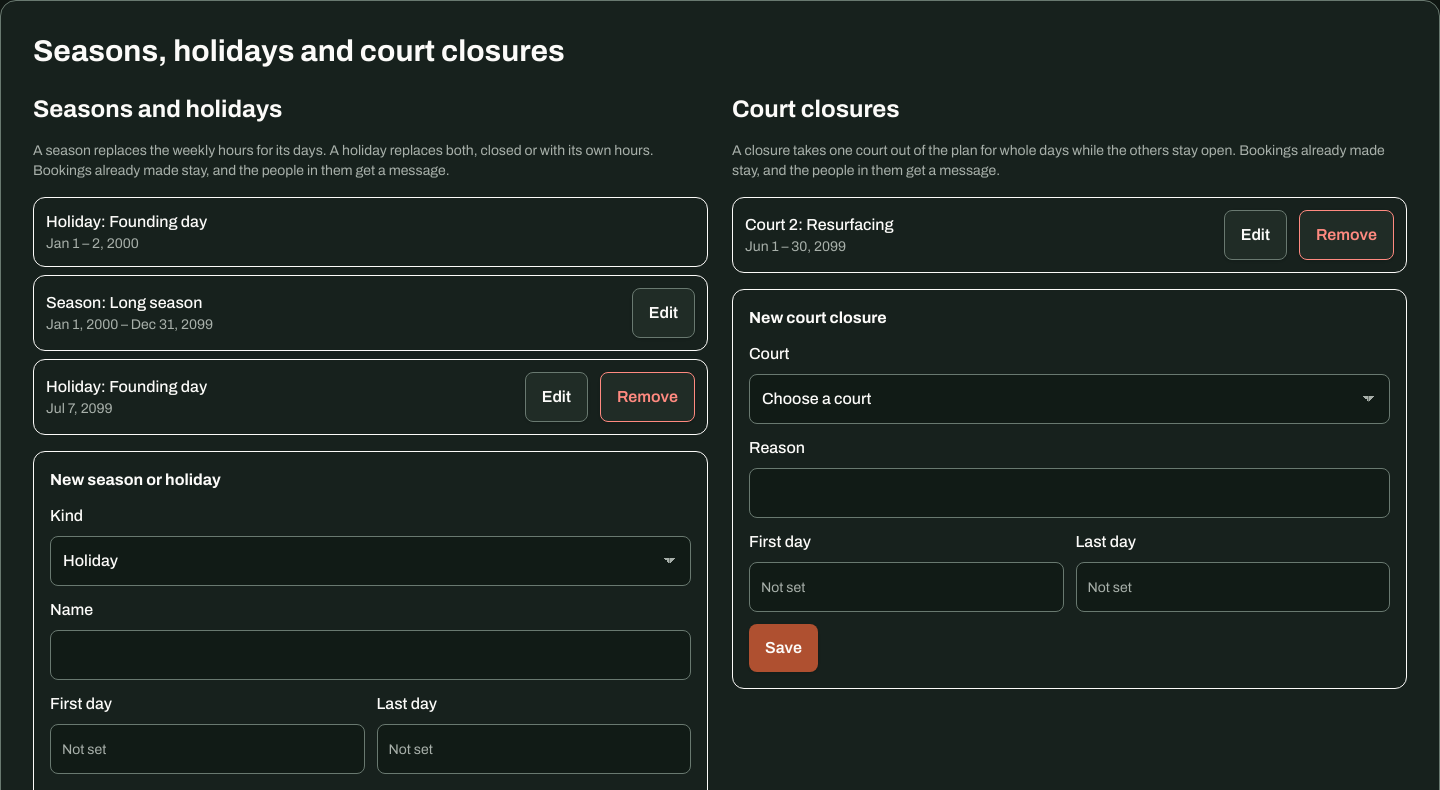
Test: AdminAvailabilityView › given a form without its days, when it is saved, then nothing is sent and the board is told what is missing
Expected: the form with test id "court-closure-form" is shown, left=732, top=289, right=1407, bottom=689
In the field with test id "court-closure-name": (1070, 493) left=749, top=468, right=1390, bottom=518, type "Resurfacing"
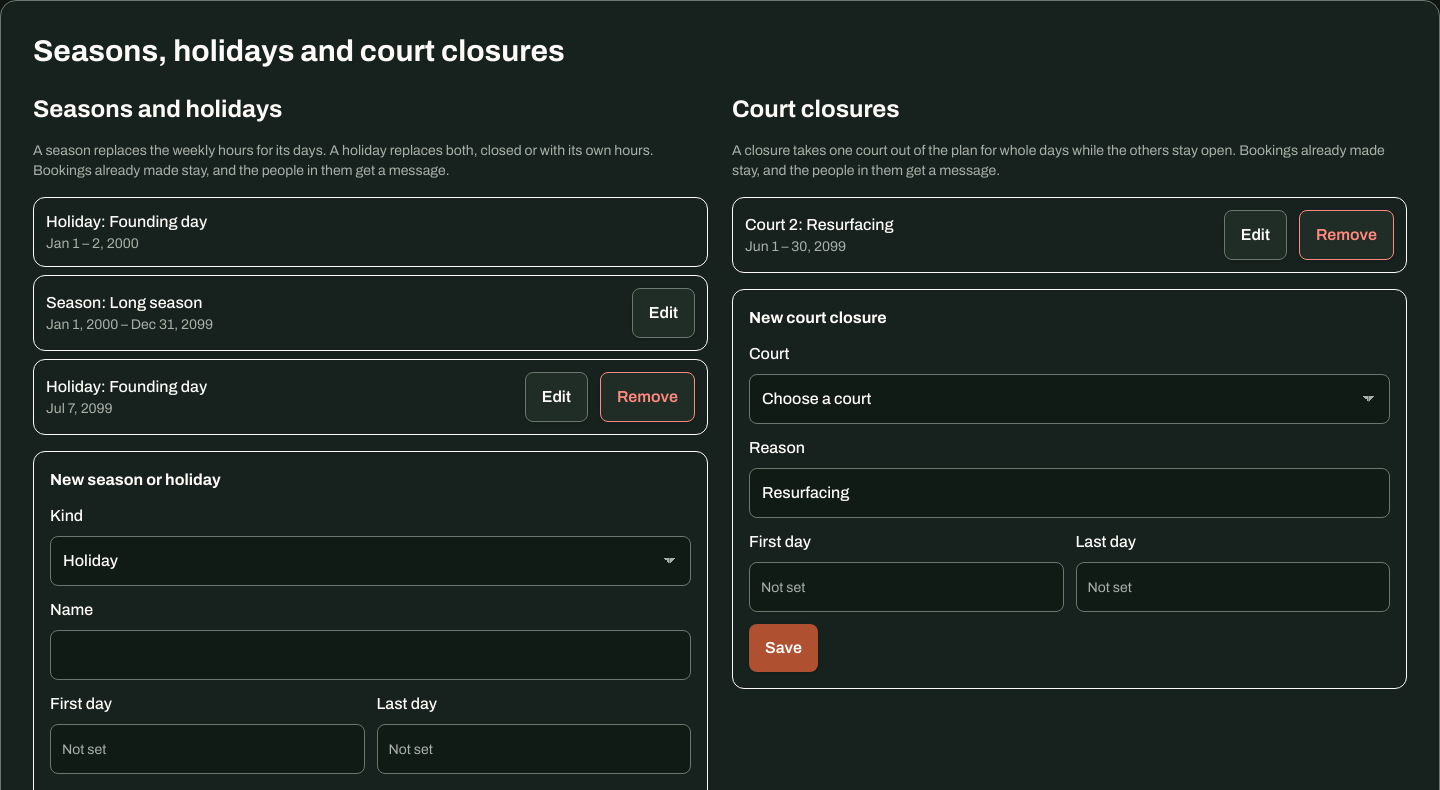
Click the button with test id "save-court-closure": click(784, 648) left=749, top=624, right=818, bottom=672
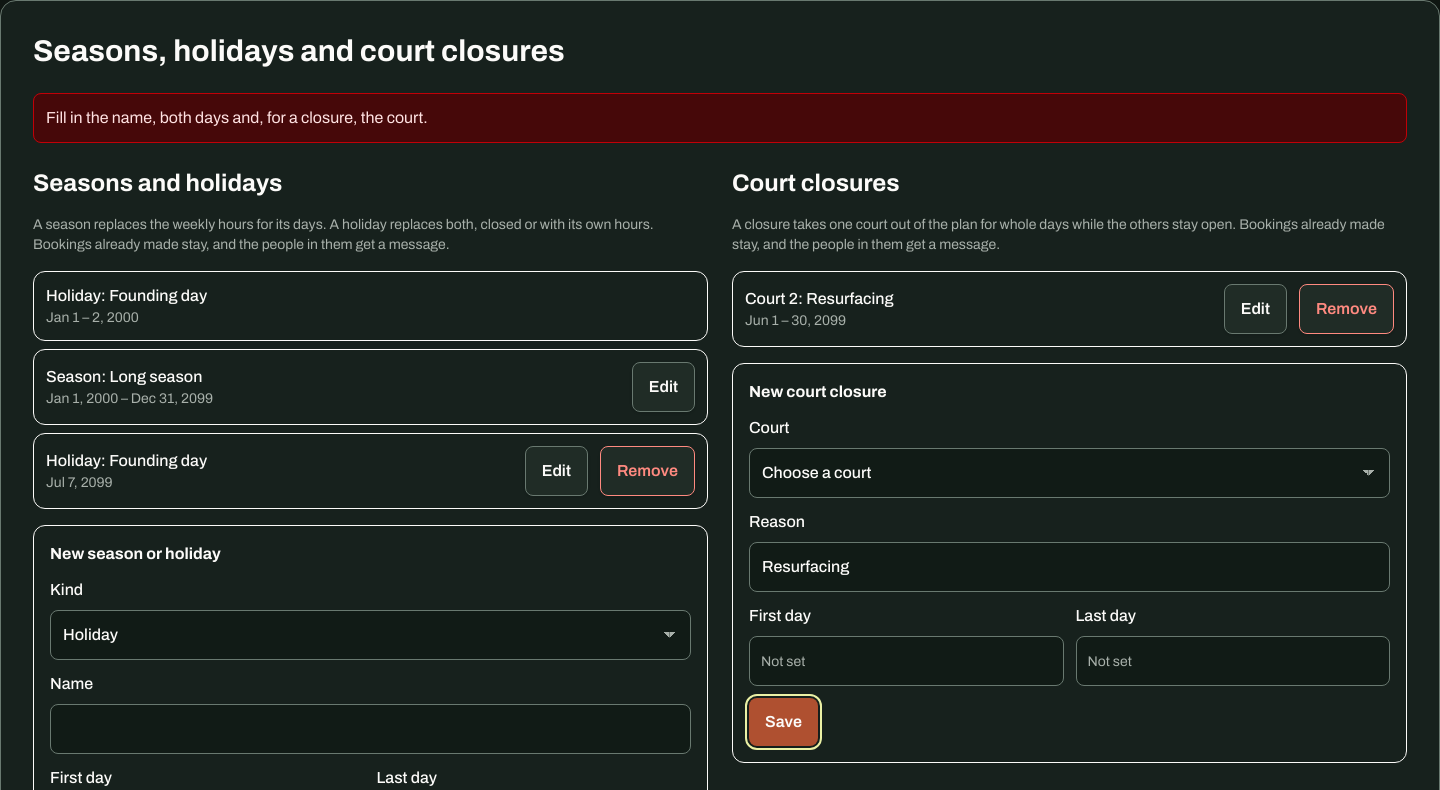
Expected: the message shows "Fill in the name, both days", left=46, top=109, right=428, bottom=126
